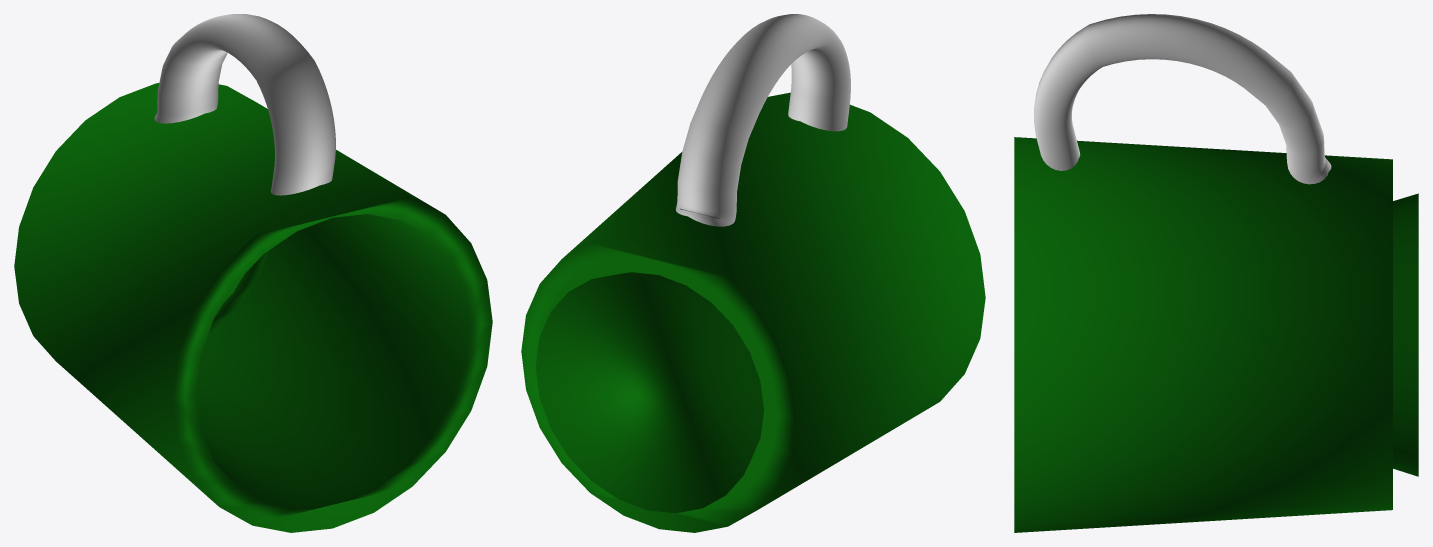
File: model_scale.obj
3 renders of one model, left to right at view 1: azimuth 30°, elevation 25°; view 2: azimuth 150°, elevation 25°; view 3: azimuth 270°, elevation 25°, orthographic. The views are drawn at different scales.
Visible parts, largest first — view 1: mesh2_mesh2-geometry, mesh4_mesh4-geometry, mesh1_mesh1-geometry; view 2: mesh2_mesh2-geometry, mesh1_mesh1-geometry, mesh4_mesh4-geometry; view 3: mesh2_mesh2-geometry, mesh4_mesh4-geometry, mesh1_mesh1-geometry.
Part boxes in pixels (x1,y1,x2,y2): mesh2_mesh2-geometry: (14,83,492,532); mesh4_mesh4-geometry: (154,14,335,195); mesh1_mesh1-geometry: (209,251,268,332); mesh2_mesh2-geometry: (521,92,985,532); mesh1_mesh1-geometry: (535,272,763,513); mesh4_mesh4-geometry: (676,14,850,226); mesh2_mesh2-geometry: (1014,137,1392,532); mesh4_mesh4-geometry: (1034,14,1331,184); mesh1_mesh1-geometry: (1393,193,1418,476).
Size of the model in its own units: 0.0782 by 0.1065 by 0.0796.
